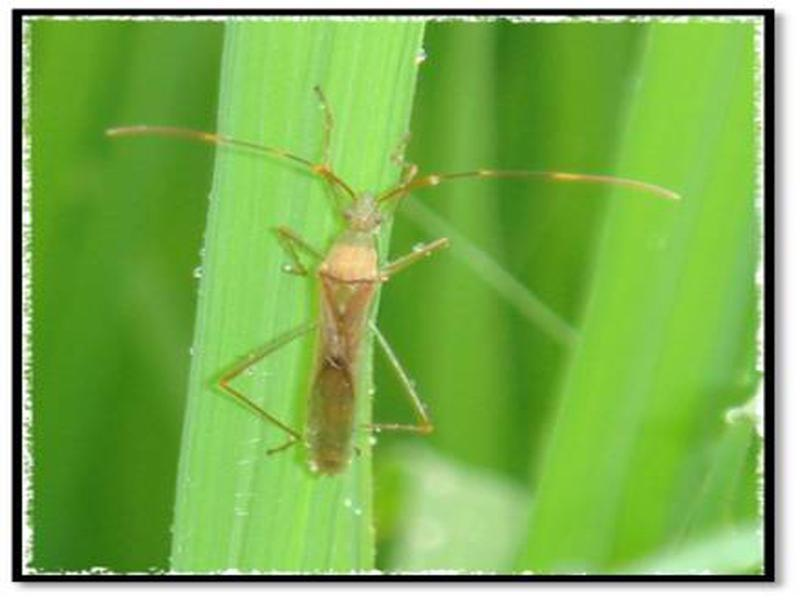Rice_earhead_bug: (227, 160, 434, 508)
